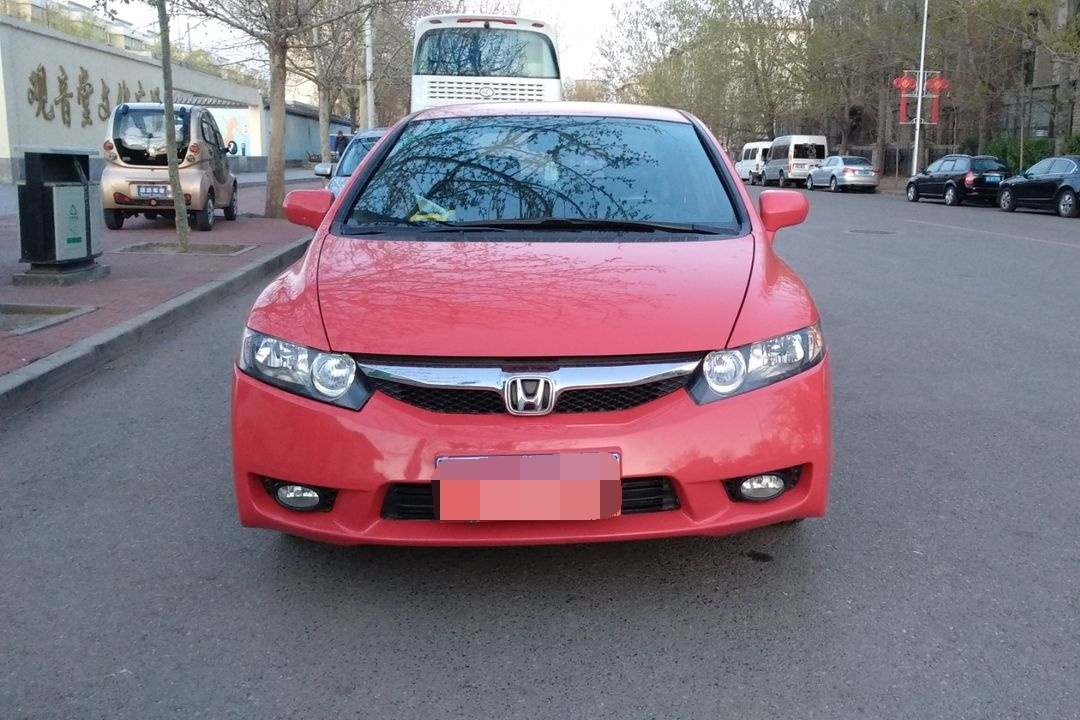family sedan: (226, 111, 877, 554)
